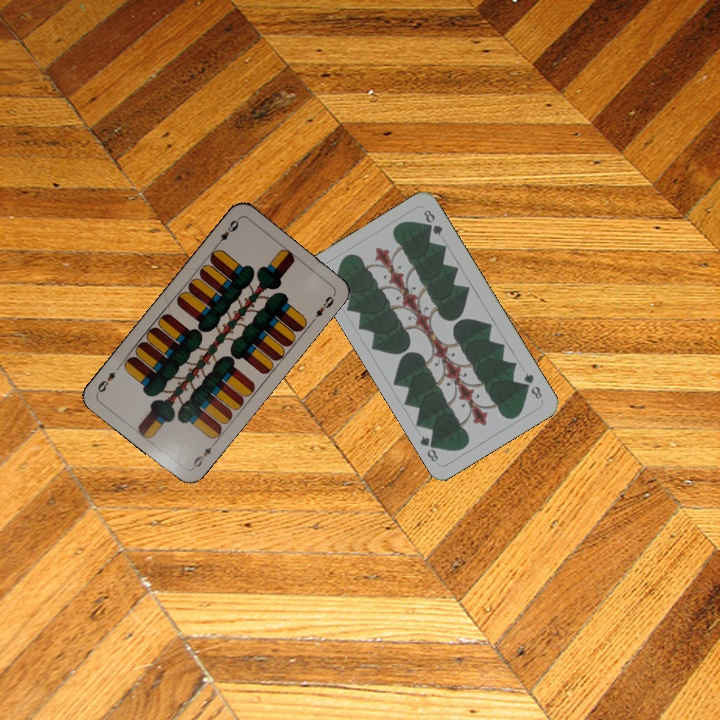E9: (212, 214, 242, 249), (189, 443, 214, 470)
G8: (519, 368, 545, 402)
